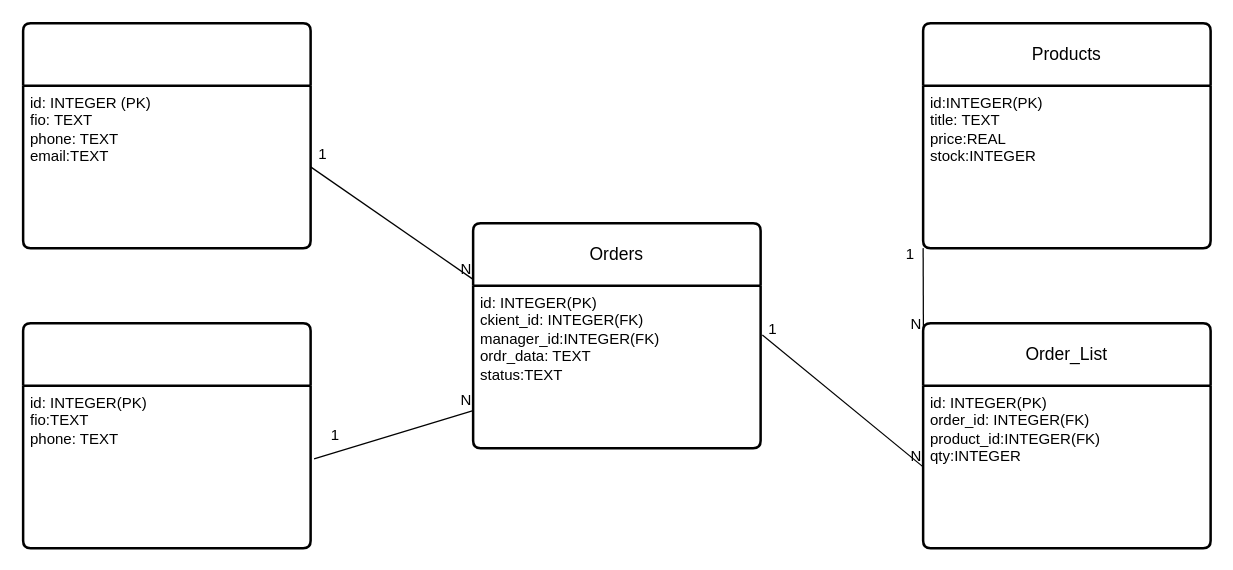
Image size: 1233x570. Some labels were removed from this diagram. Here are the shapes that lost their labels. From the top down, the box of each, then its label:
(21, 21, 311, 249): Clients
(21, 321, 311, 549): Managers
